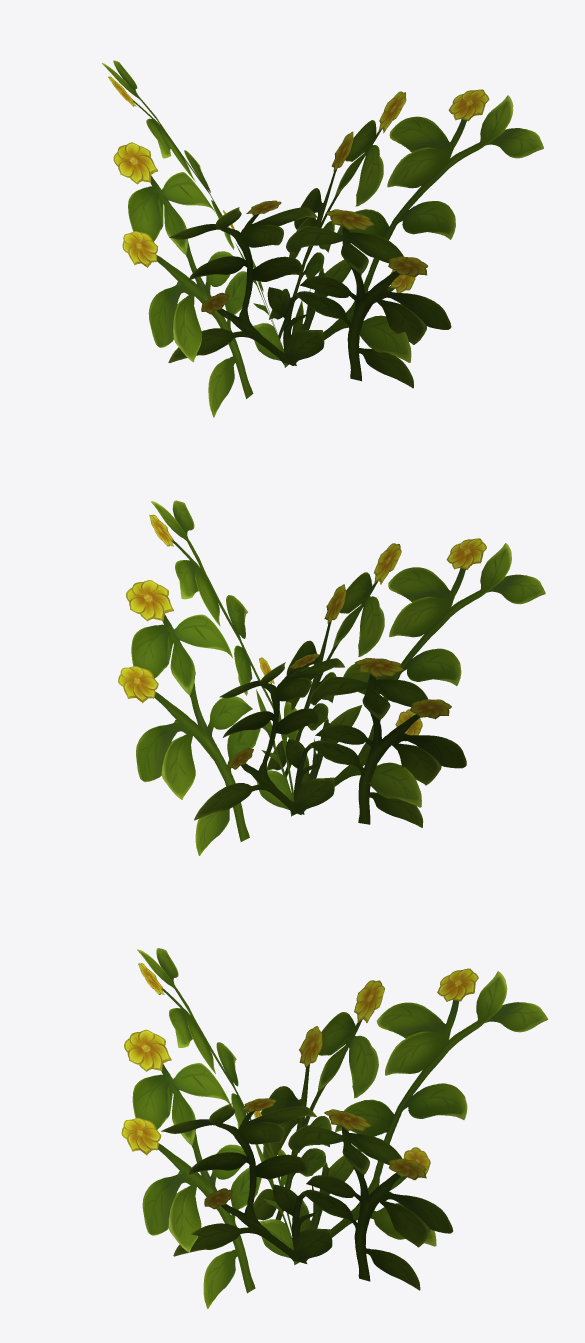
Rendered from Grass_2.FBX.
3 views of the same model, one above another, from view 1: azimuth 30°, elevation 25°; view 2: azimuth 150°, elevation 25°; view 3: azimuth 270°, elevation 25° (orthographic). The views are drawn at different scales.
Parts seen in each view (by area): view 1: Grass_2; view 2: Grass_2; view 3: Grass_2.
Part boxes in pixels (x1,y1,x2,y2): Grass_2: [102, 60, 543, 417]; Grass_2: [118, 500, 545, 855]; Grass_2: [121, 948, 548, 1308].
Size of what is drawn, in the model's own units: 118 by 125 by 68.42.
